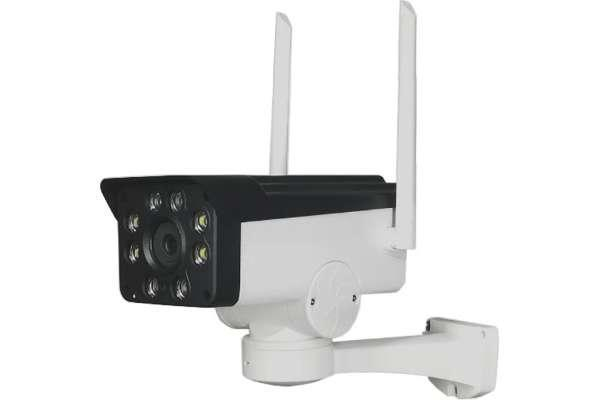tutu: (93, 162, 425, 313)
